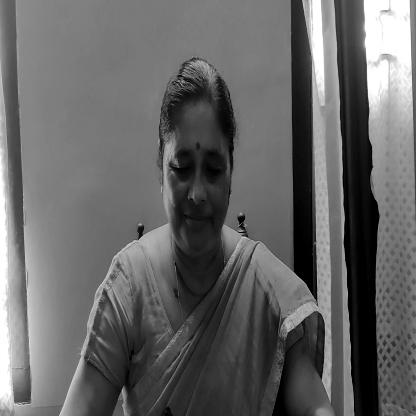Normal: (160, 62, 232, 251)
